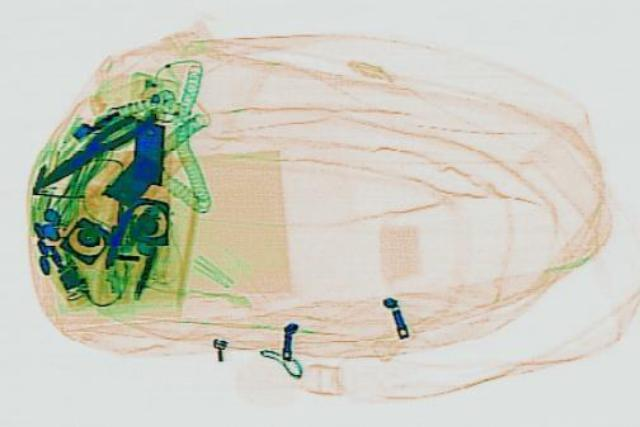Pliers: (25, 109, 152, 188)
